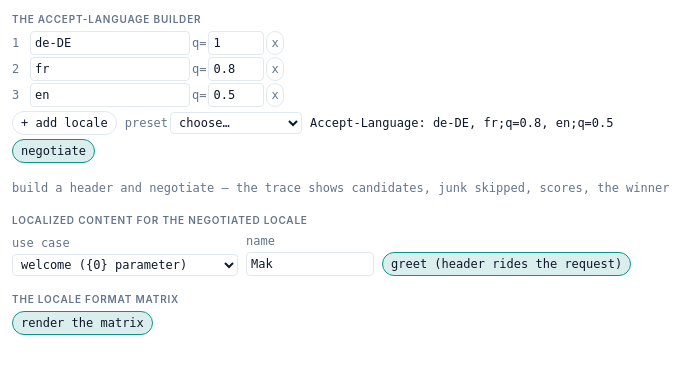
Scenario: NegotiatorDemo › the hostile preset swaps the rows in (junk rows included, on purpose)
Select "hostile" in the dropdown with test id "i18n-preset" at (236, 123), box [170,112,302,134]
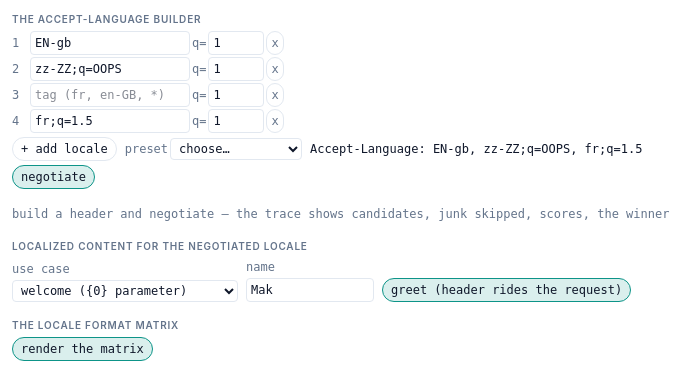
Expected: the text with test id "i18n-header-value" shows "EN-gb", [433,142,642,156]
Expected: the text with test id "i18n-header-value" shows "zz-ZZ;q=OOPS", [433,142,642,156]
Expected: the text with test id "i18n-header-value" shows "fr;q=1.5", [433,142,642,156]
